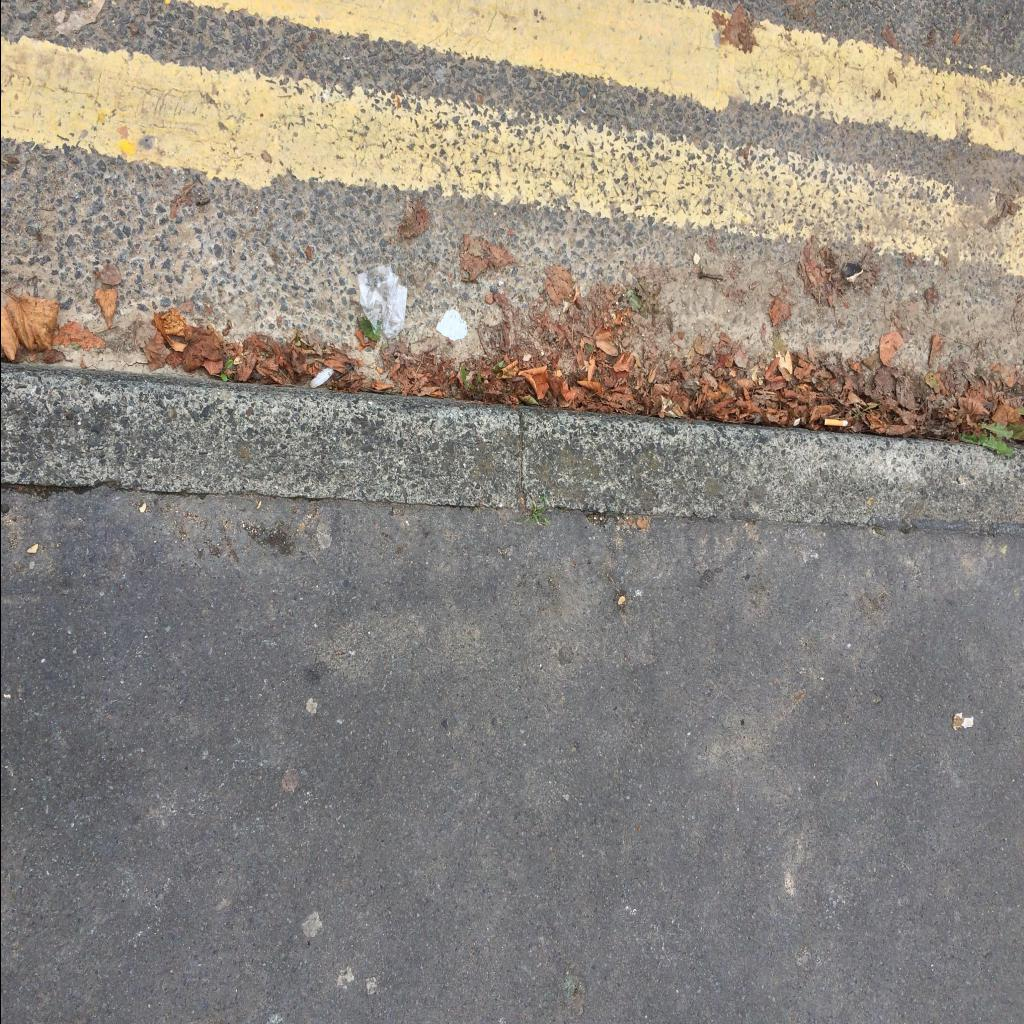Cigarette: (823, 418, 847, 426)
Plastic film: (358, 262, 406, 338)
Unlabeled litter: (435, 310, 466, 342)
